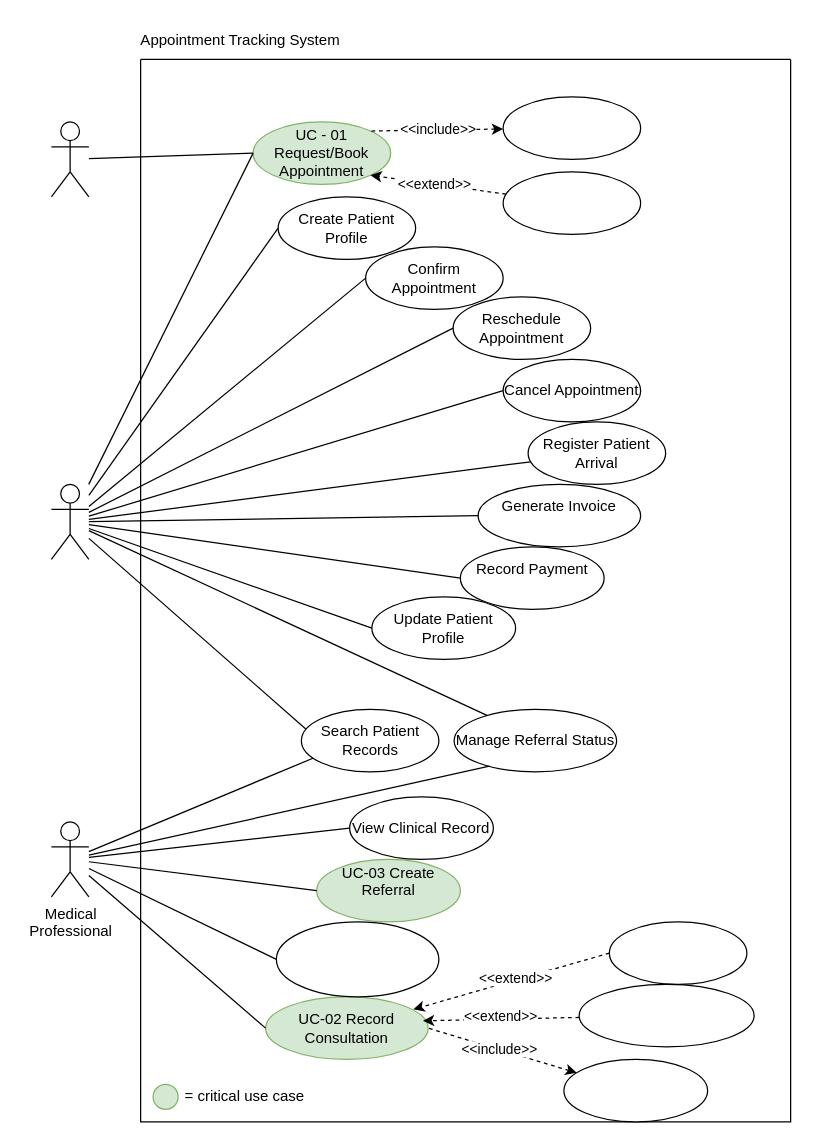
Image size: 814x1144. Some labels were removed from this diagram. Here are the shapes that lost their labels. From the top down, the centre of each, then its label:
At (x=571, y=127): "Verify Availability".
At (x=69, y=159): "Patient".
At (x=571, y=202): "Verify Referral".
At (x=69, y=521): "Administrative Staff".
At (x=357, y=959): "Manage Schedule & Availability".
At (x=677, y=952): "Issue Prescription".
At (x=666, y=1015): "Request Follow-up Appointment".
At (x=635, y=1090): "Record Clinical Information".
